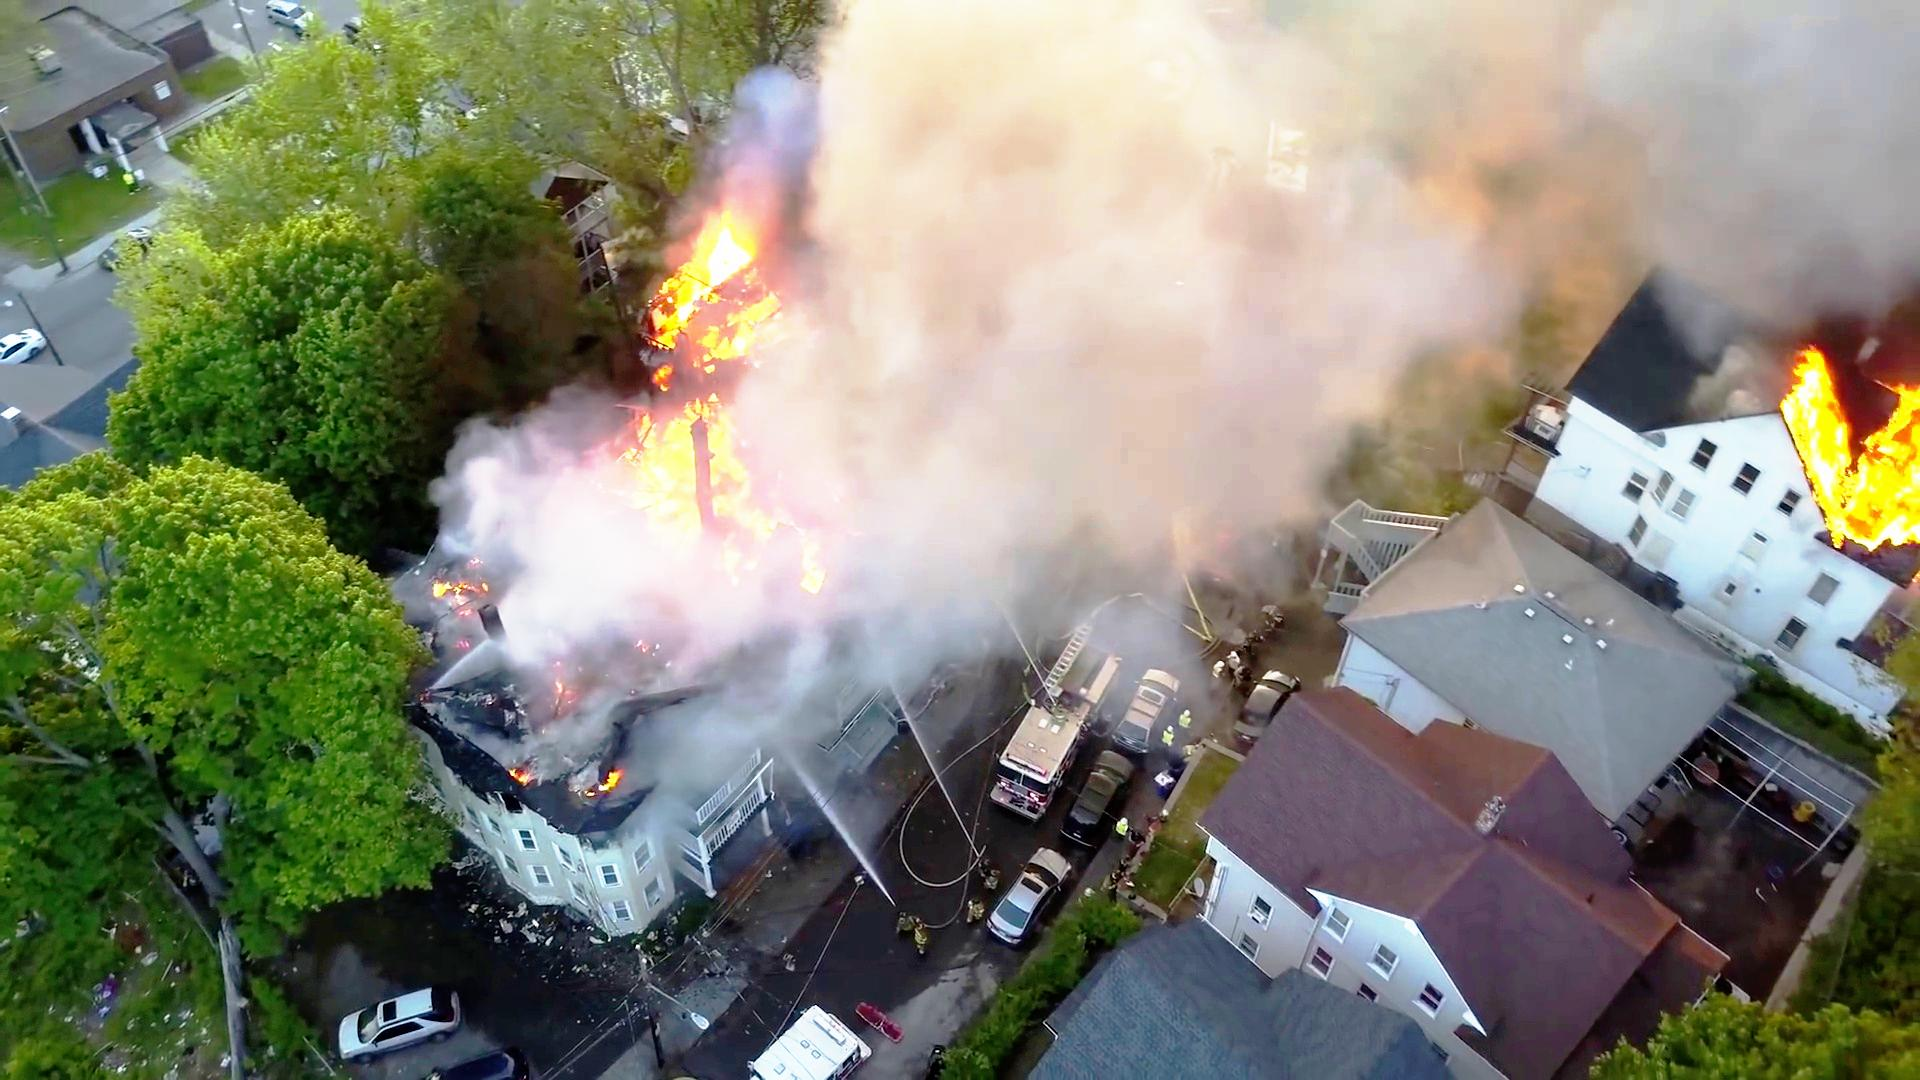fire: (611, 404, 752, 559), (646, 223, 791, 371)
smoke: (898, 22, 1179, 406)
